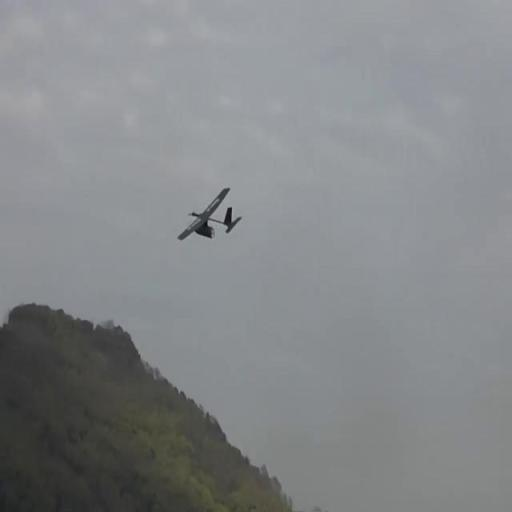uav: (178, 187, 242, 242)
